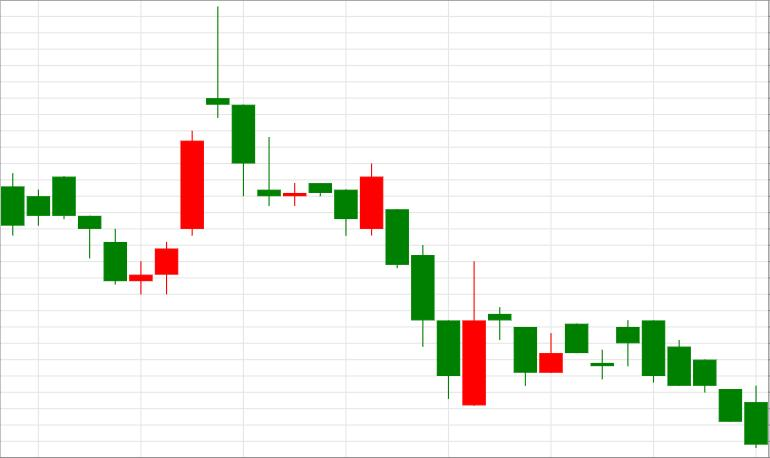bullish_engulfing_rise: (360, 163, 485, 405)
